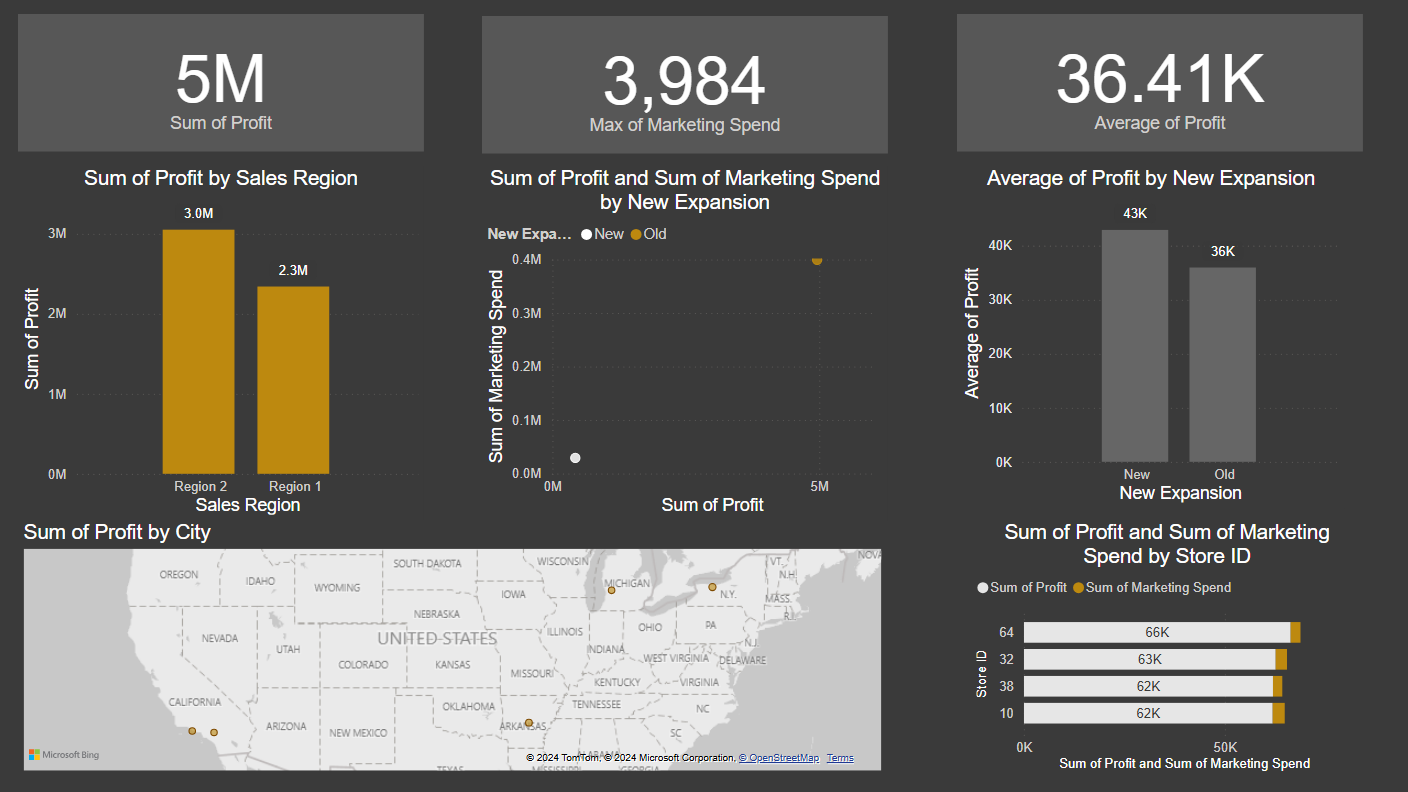

What the dashboard file says about the page in this screenshot:
{"tool":"powerbi","page":{"name":"PROFIT ","canvas":[1280,720],"ordinal":2},"visuals":[{"type":"card","fields":{"Values":["Avg(startup-expansion-modified.Profit)"]},"box":[870,13.1,368.9,125],"z":0},{"type":"card","fields":{"Values":["Max(startup-expansion-modified.Marketing Spend)"]},"box":[438,14.3,368.9,125],"z":1000},{"type":"card","fields":{"Values":["Sum(startup-expansion-modified.Profit)"]},"box":[16.7,13.1,368.9,125],"z":2000},{"type":"lineStackedColumnComboChart","fields":{"Category":["startup-expansion-modified.Sales Region"],"Y":["Sum(startup-expansion-modified.Profit)"]},"box":[16.7,208.3,368.9,264.2],"z":3000},{"type":"scatterChart","fields":{"X":["Sum(startup-expansion-modified.Profit)"],"Y":["Sum(startup-expansion-modified.Marketing Spend)"],"Series":["startup-expansion-modified.New Expansion"]},"box":[438,208.3,368.9,264.2],"z":4000},{"type":"lineStackedColumnComboChart","fields":{"Y":["Avg(startup-expansion-modified.Profit)"],"Category":["startup-expansion-modified.New Expansion"]},"box":[870.6,197.4,351,264.6],"z":5000},{"type":"map","fields":{"Category":["startup-expansion-modified.City"],"Size":["Sum(startup-expansion-modified.Profit)"]},"box":[16.5,473,789.7,233.1],"z":6000},{"type":"barChart","fields":{"Category":["startup-expansion-modified.Store ID"],"Y":["Sum(startup-expansion-modified.Profit)","Sum(startup-expansion-modified.Marketing Spend)"]},"box":[883,489.5,356.5,216.6],"z":7000}]}

Visuals, with their boxes in screenshot pixels (x1, y1, x2, y2), scaled from the page's 1280x720 canvas onto the 1408x792 screenshot:
card - Avg(startup-expansion-modified.Profit): Rect(957, 14, 1363, 152)
card - Max(startup-expansion-modified.Marketing Spend): Rect(482, 16, 888, 153)
card - Sum(startup-expansion-modified.Profit): Rect(18, 14, 424, 152)
lineStackedColumnComboChart - startup-expansion-modified.Sales Region x Sum(startup-expansion-modified.Profit): Rect(18, 229, 424, 520)
scatterChart - Sum(startup-expansion-modified.Profit) x Sum(startup-expansion-modified.Marketing Spend): Rect(482, 229, 888, 520)
lineStackedColumnComboChart - Avg(startup-expansion-modified.Profit) x startup-expansion-modified.New Expansion: Rect(958, 217, 1344, 508)
map - startup-expansion-modified.City x Sum(startup-expansion-modified.Profit): Rect(18, 520, 887, 777)
barChart - startup-expansion-modified.Store ID x Sum(startup-expansion-modified.Profit): Rect(971, 538, 1363, 777)
